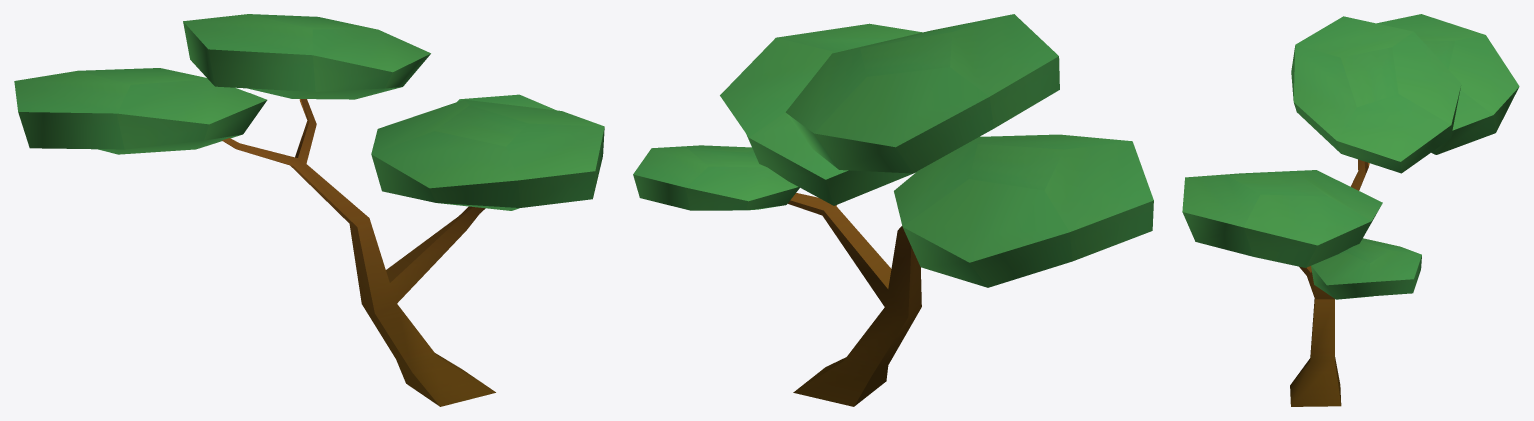
Rendered from Tree_2.fbx.
3 views of the same model, side by side, from view 1: azimuth 30°, elevation 25°; view 2: azimuth 150°, elevation 25°; view 3: azimuth 270°, elevation 25° (orthographic). The views are drawn at different scales.
Parts seen in each view (by area): view 1: Tree_2; view 2: Tree_2; view 3: Tree_2.
Boxes of the visible parts, left/top/right/bottom form: Tree_2: left=14, top=14, right=604, bottom=406; Tree_2: left=633, top=14, right=1153, bottom=406; Tree_2: left=1182, top=14, right=1519, bottom=406.
Bounding box in the file's own units: 7.7 × 5.52 × 5.72.
